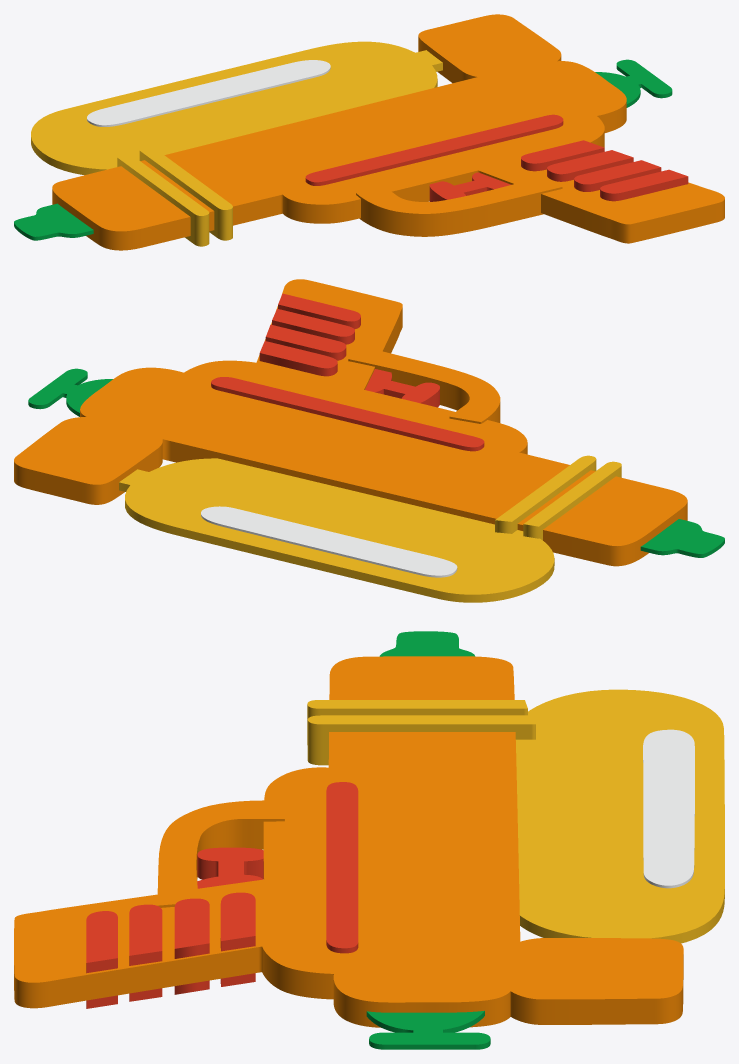
The model's file is emoji_u1f52b.glb.
3 views of the same model, one above another, from view 1: azimuth 30°, elevation 25°; view 2: azimuth 150°, elevation 25°; view 3: azimuth 270°, elevation 25° (orthographic). The views are drawn at different scales.
Visible parts, largest first — view 1: emoji_u1f52b; view 2: emoji_u1f52b; view 3: emoji_u1f52b.
Part boxes in pixels (box(x1,y1,x2,y2)): emoji_u1f52b: box(14, 14, 724, 250); emoji_u1f52b: box(14, 279, 724, 602); emoji_u1f52b: box(14, 631, 724, 1049).
Size of the model in its own units: 0.0347 by 0.0018 by 0.0252.
